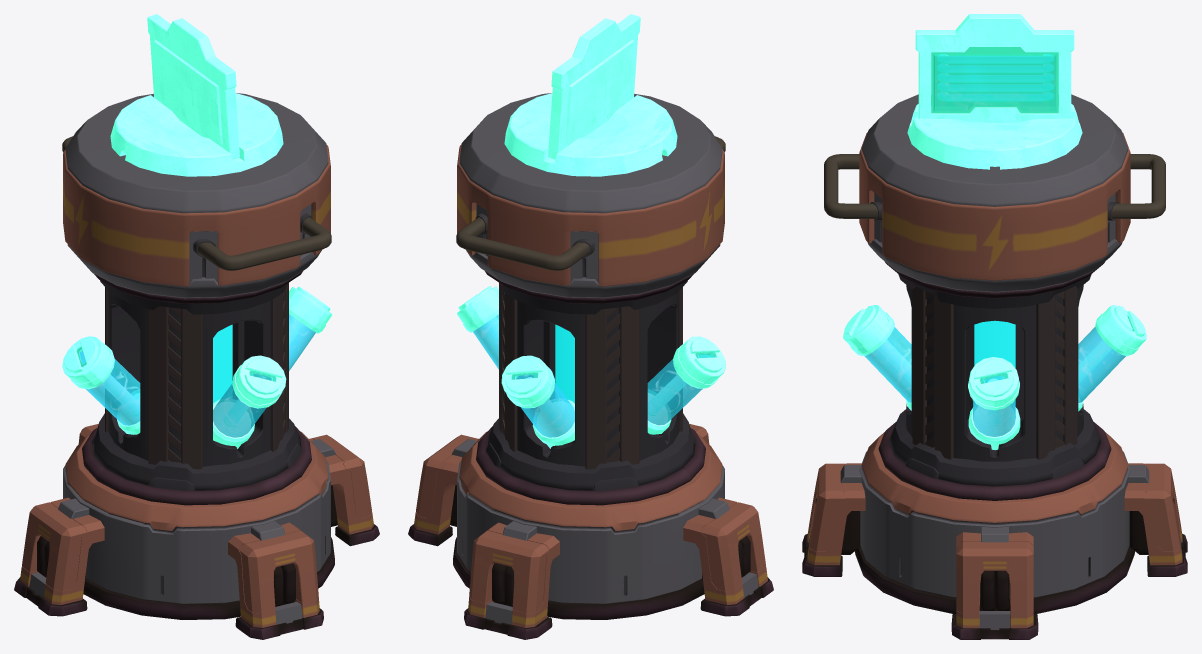
3 views of the same model, side by side, from view 1: azimuth 30°, elevation 25°; view 2: azimuth 150°, elevation 25°; view 3: azimuth 270°, elevation 25° (orthographic).
Visible parts, largest first — view 1: Object_3, Object_2, Object_6, Object_7, Object_5, Object_4; view 2: Object_3, Object_2, Object_6, Object_7, Object_5, Object_4; view 3: Object_3, Object_2, Object_6, Object_7, Object_5, Object_4.
Boxes of the visible parts, box(x1,y1,x2,y2) form: Object_3: box(20, 144, 373, 627); Object_2: box(29, 93, 335, 624); Object_6: box(92, 280, 301, 490); Object_7: box(62, 14, 332, 448); Object_5: box(14, 271, 379, 639); Object_4: box(79, 314, 315, 437); Object_3: box(414, 144, 767, 627); Object_2: box(452, 93, 758, 624); Object_6: box(486, 280, 695, 490); Object_7: box(457, 14, 725, 448); Object_5: box(408, 271, 773, 639); Object_4: box(473, 314, 712, 437); Object_3: box(807, 132, 1182, 628); Object_2: box(808, 94, 1181, 629); Object_6: box(889, 274, 1100, 486); Object_7: box(843, 14, 1146, 450); Object_5: box(802, 262, 1187, 639); Object_4: box(864, 54, 1125, 436).
Size of what is drawn, in the model's own units: 8.37 by 12.94 by 8.37.
6 materials, 6 textured.
